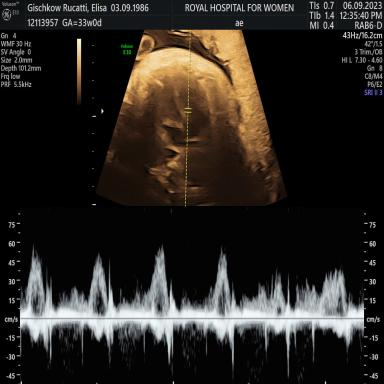Ultrasound-Waves: (25, 215, 362, 384)
